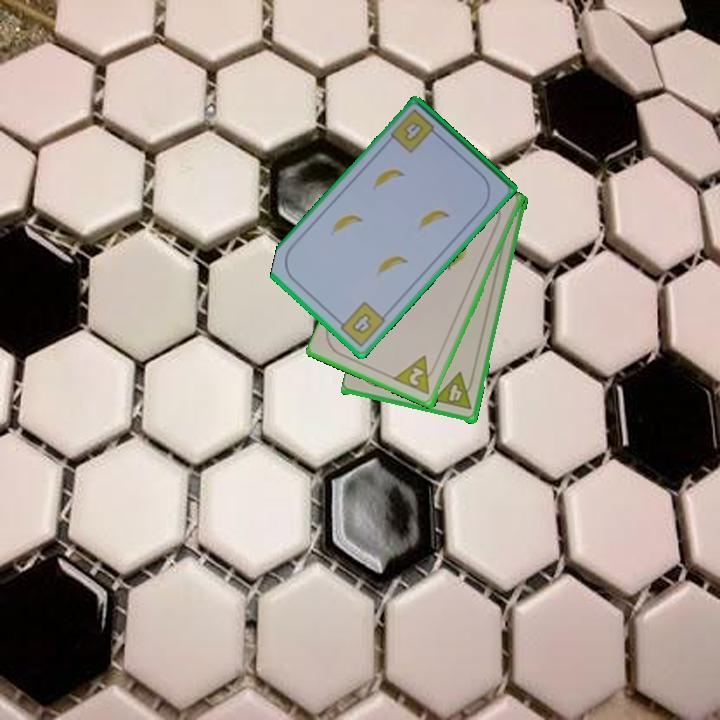2p: (392, 352, 439, 398)
4b: (333, 298, 388, 350), (387, 106, 443, 156)
4p: (431, 370, 477, 413)
